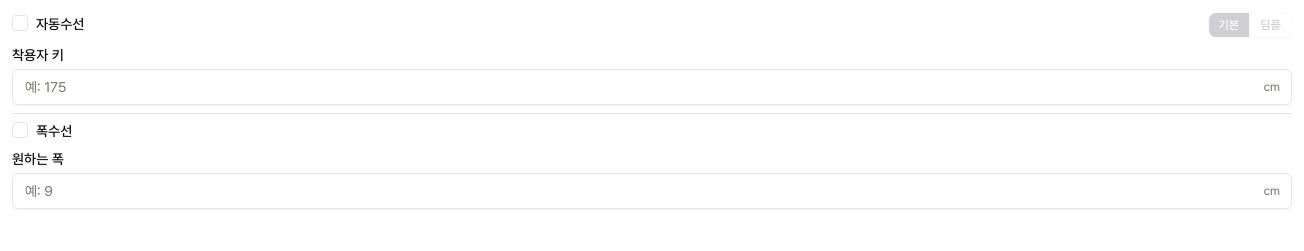
Test: BulkApplySection › handleBulkApply 검증 › 폭수선 선택 후 값 미입력 시 원하는 폭 인라인 에러를 표시하고 false를 반환한다
The image size is (1304, 251).
Click the checkbox labelled "폭수선".
click(54, 132)  # box [36,122,72,142]
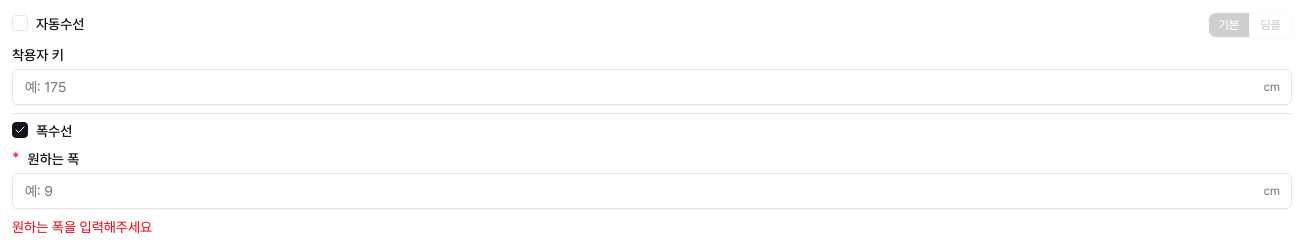
Check: the text "원하는 폭을 입력해주세요" is shown, box [12,219,152,235]
